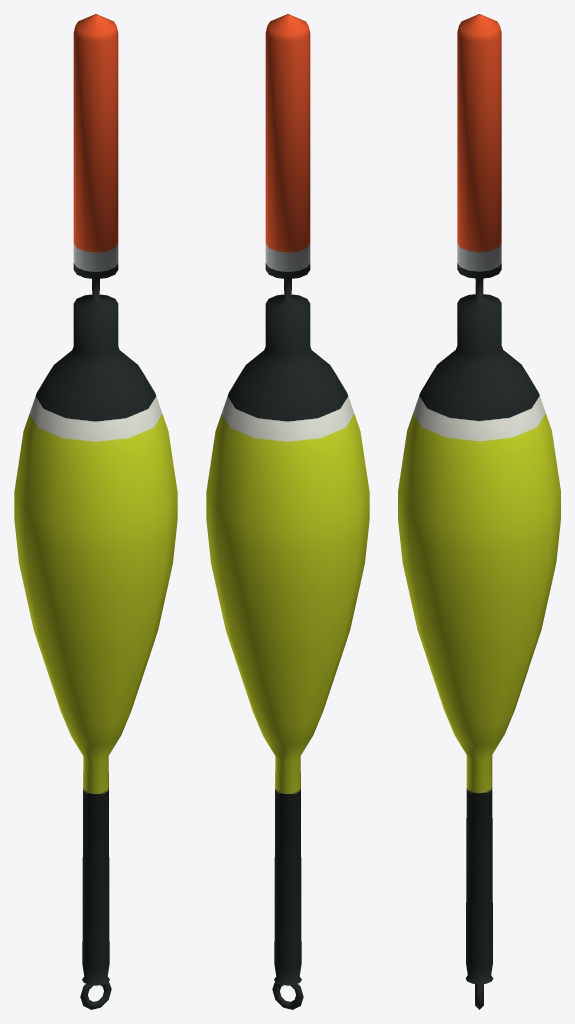
3 views of the same model, side by side, from view 1: azimuth 30°, elevation 25°; view 2: azimuth 150°, elevation 25°; view 3: azimuth 270°, elevation 25° (orthographic).
Visible parts, largest first — view 1: F08_Float; view 2: F08_Float; view 3: F08_Float.
Boxes of the visible parts, x1=… form: F08_Float: x1=14, y1=14, x2=177, y2=1009; F08_Float: x1=206, y1=14, x2=369, y2=1009; F08_Float: x1=398, y1=14, x2=560, y2=1009.
Size of the model in its own units: 0.0268 by 0.18 by 0.0268.
1 material, 1 textured.
